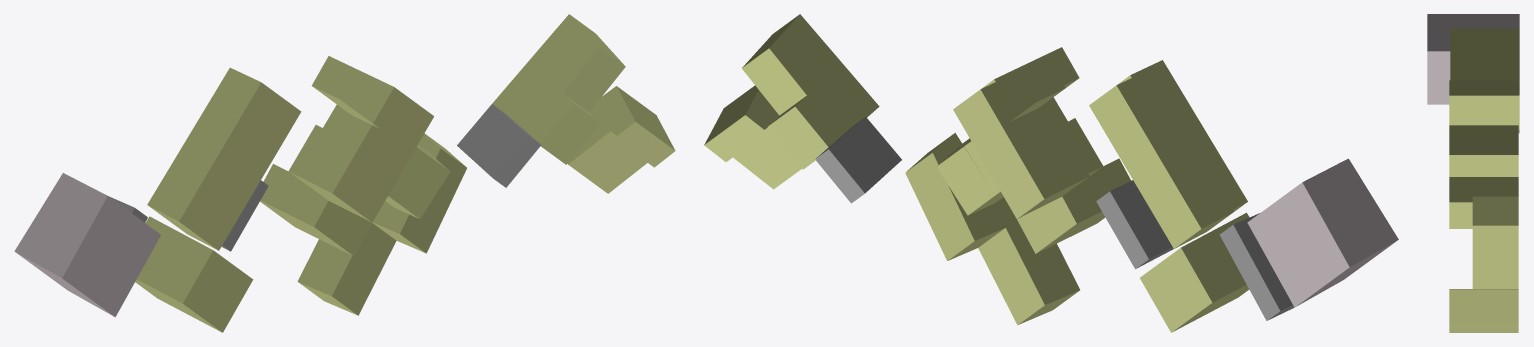
3 views of the same model, side by side, from view 1: azimuth 30°, elevation 25°; view 2: azimuth 150°, elevation 25°; view 3: azimuth 270°, elevation 25° (orthographic). The views are drawn at different scales.
Visible parts, largest first — view 1: 0_1_1_3_3_1_0; view 2: 0_1_1_3_3_1_0; view 3: 0_1_1_3_3_1_0.
Boxes of the visible parts, <box> form: 0_1_1_3_3_1_0: <box>14,14,675,332</box>; 0_1_1_3_3_1_0: <box>704,14,1398,332</box>; 0_1_1_3_3_1_0: <box>1427,14,1519,332</box>.
Size of the model in its own units: 80.53 by 31.38 by 12.
